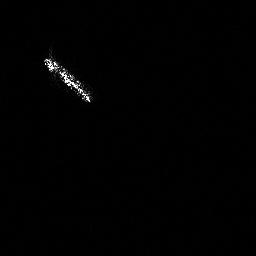ship: (41, 52, 94, 105)
